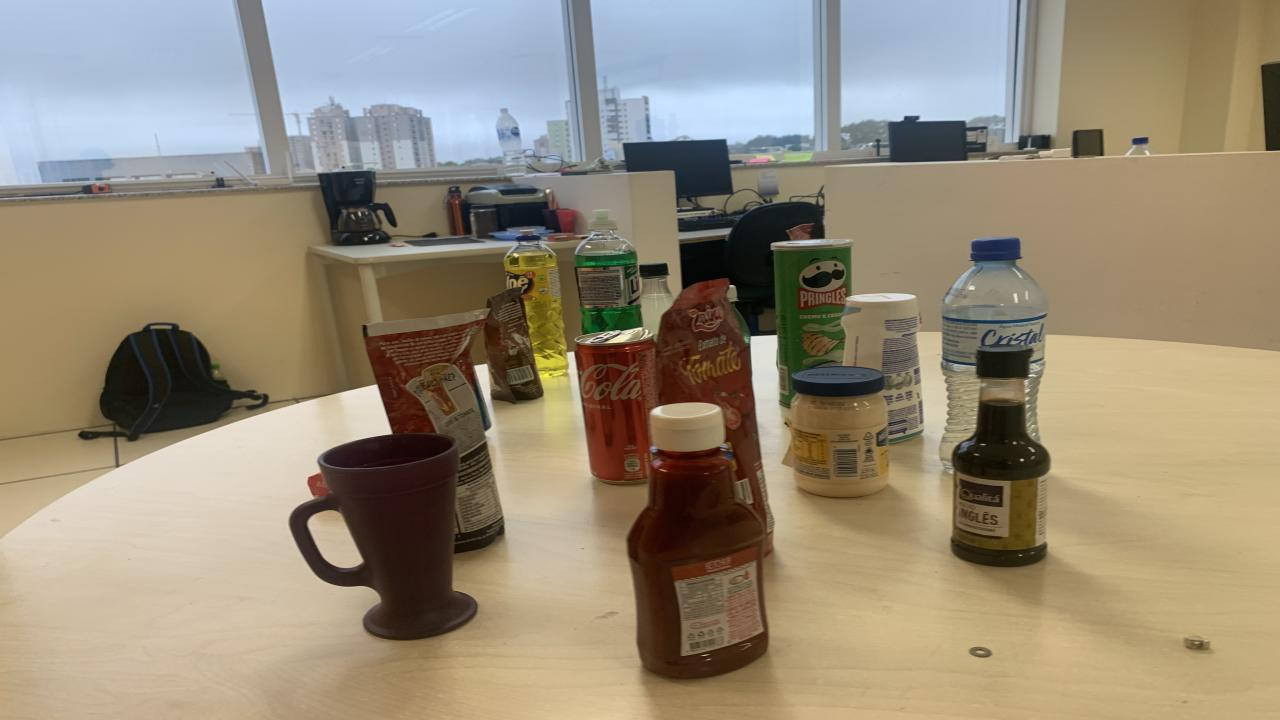Cleaner-Cleanup_Items: (840, 292, 925, 441)
Coffee-Pantry_Items: (485, 287, 542, 403)
Coke-Drinks: (575, 328, 658, 484)
Detergent-Cleanup_Items: (505, 231, 568, 377), (575, 210, 642, 334)
English_Sauce-Pantry_Items: (950, 347, 1050, 566)
Ketchup-Pantry_Items: (628, 403, 768, 679), (840, 292, 925, 442)
Mayonnaise-Pantry_Items: (790, 366, 890, 497)
Pringles-Snacks: (770, 238, 852, 416)
Soda-Drinks: (640, 262, 675, 336)
Tomato_Sauce-Pantry_Items: (362, 309, 505, 551), (655, 279, 772, 551)
Water_Bottle-Drinks: (940, 236, 1048, 471)
